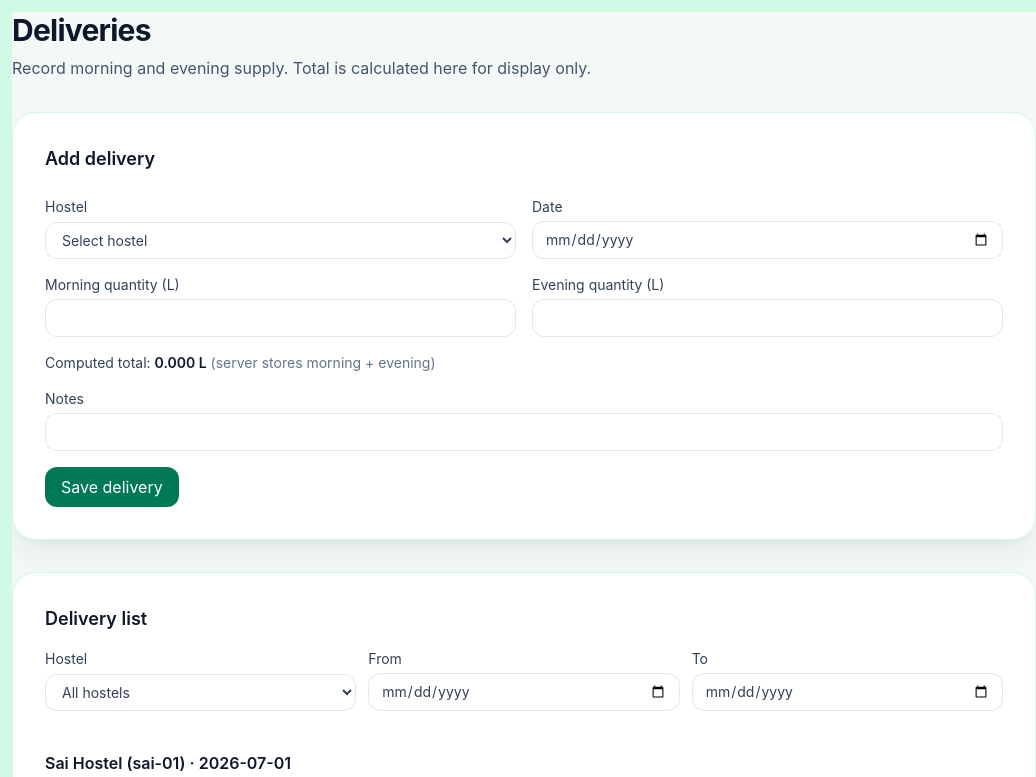
DeliveriesPage › shows the server conflict for a duplicate hostel and date
Select "Sai Hostel (sai-01)" in the dropdown labelled "Hostel" below "Date" at (280, 240), box [45,222,516,259]
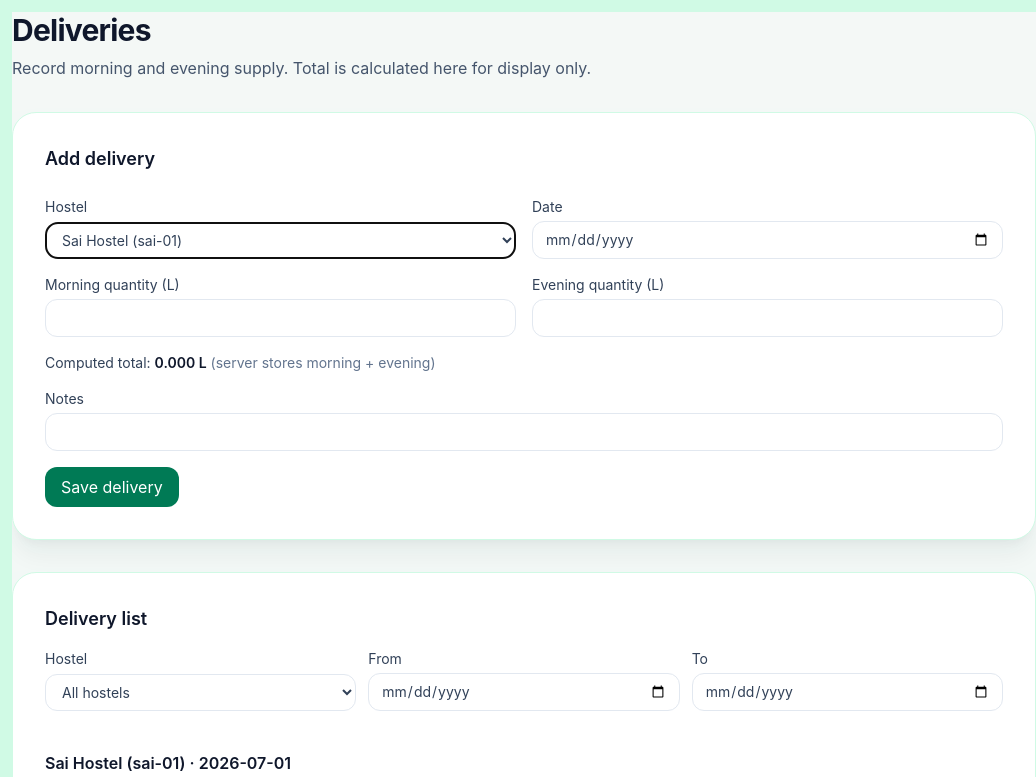
Type "2026-07-01" into the date field labelled "Date" at (768, 240), box [532,221,1003,259]
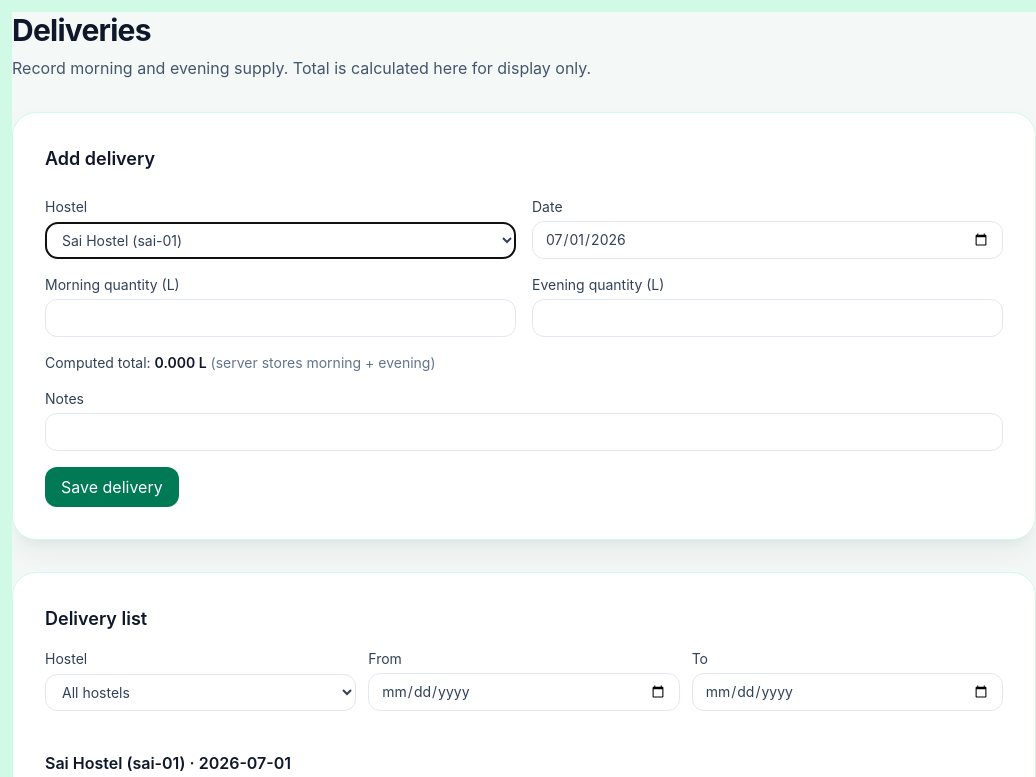
Type "5" into the number field labelled "Morning quantity (L)" at (280, 318), box [45,299,516,337]
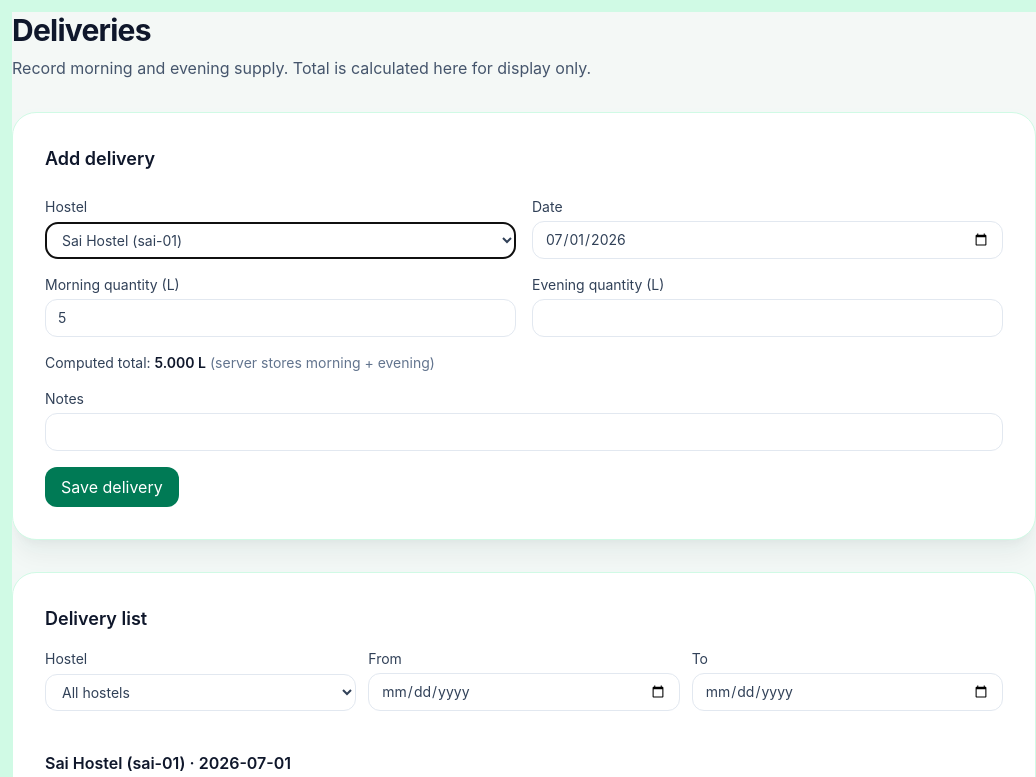
Type "5" into the number field labelled "Evening quantity (L)" at (768, 318), box [532,299,1003,337]
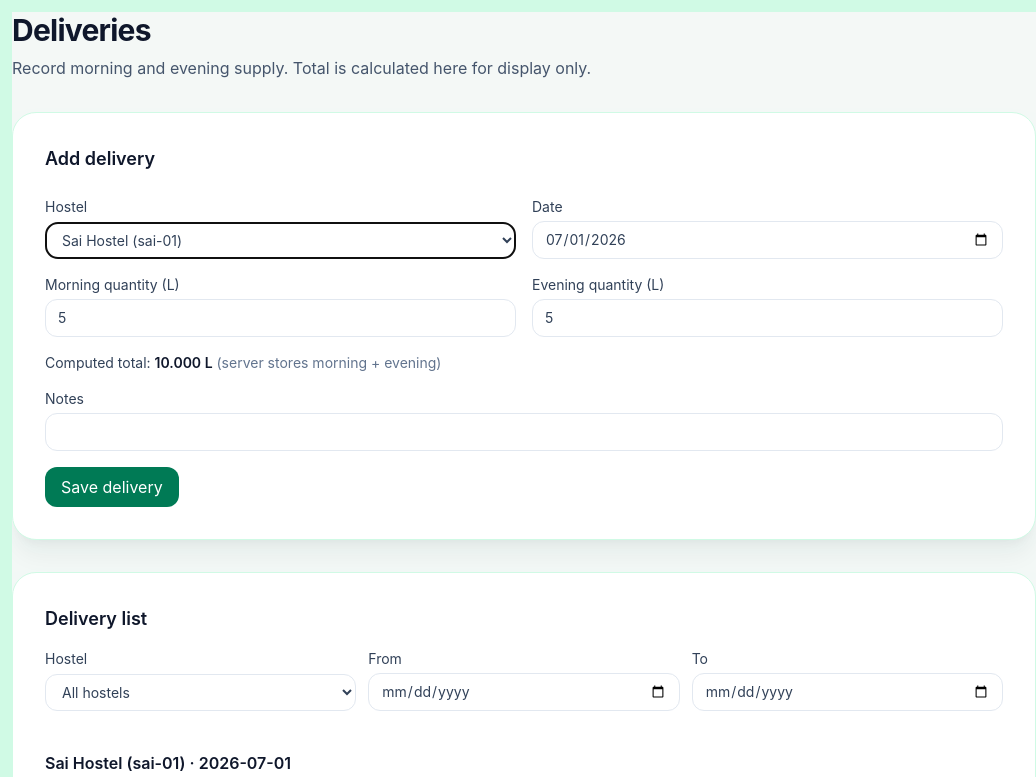
Click the button "Save delivery" at (112, 487), box [45,467,179,507]
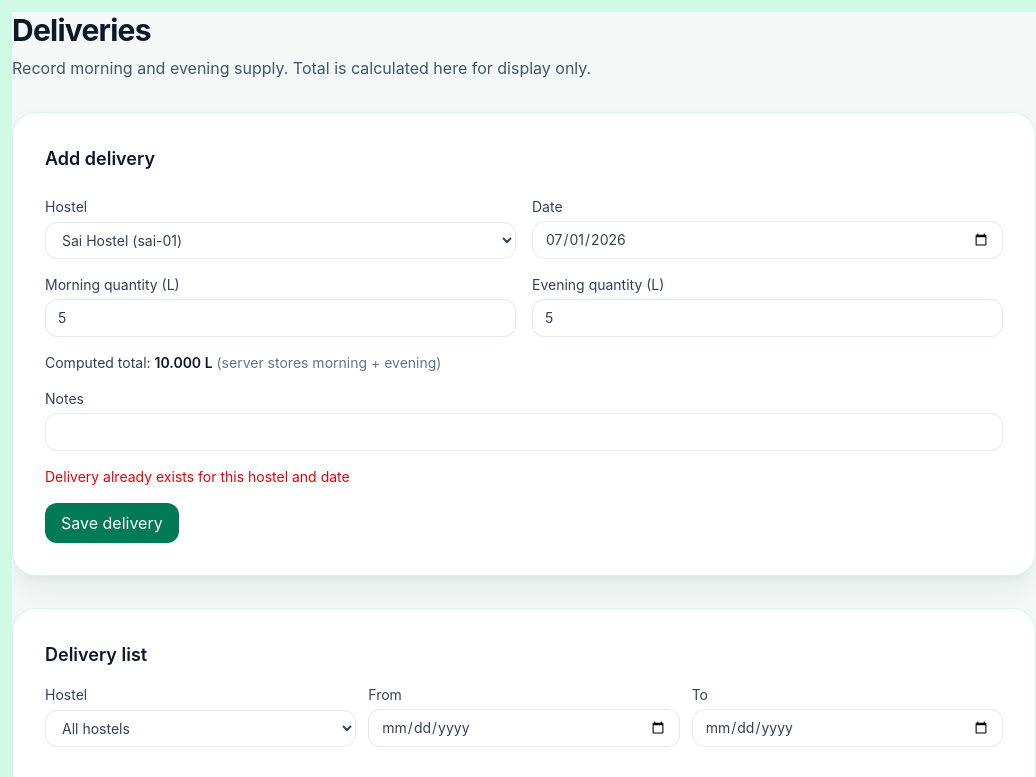
Result: the text "Delivery already exists for this hostel and date" is shown at [45,468,350,485]
